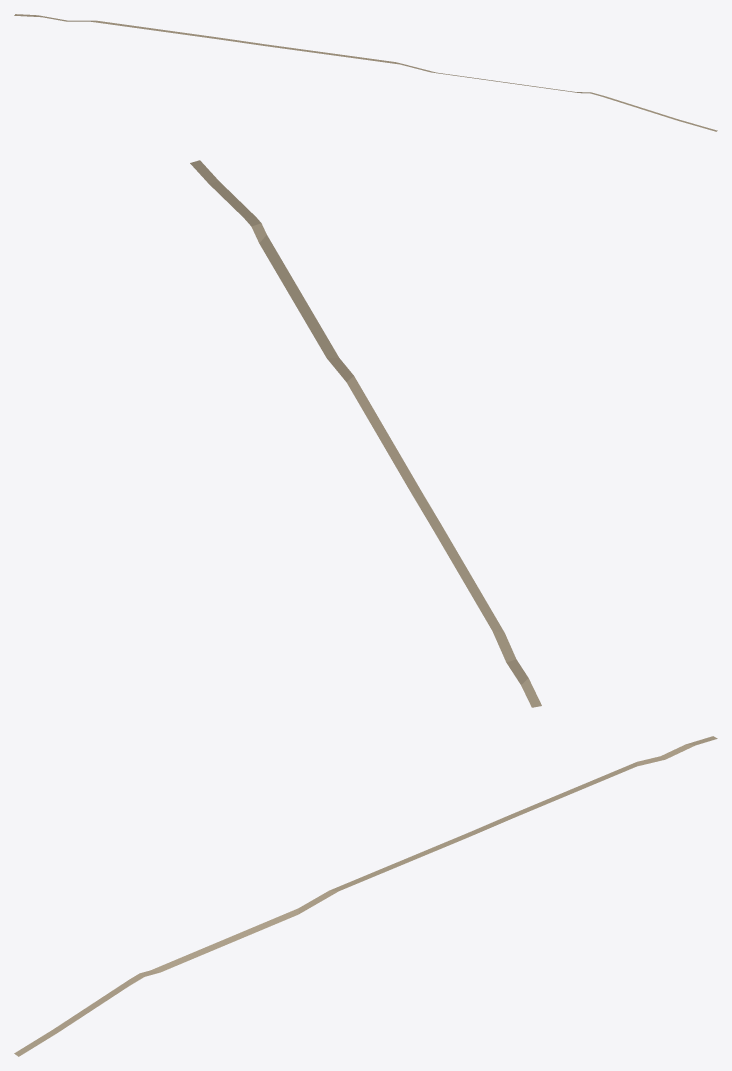
The model's file is farm_-22_-28_track.glb.
3 renders of one model, top to bottom at view 1: azimuth 30°, elevation 25°; view 2: azimuth 150°, elevation 25°; view 3: azimuth 270°, elevation 25°, orthographic. The views are drawn at different scales.
Visible parts, largest first — view 1: geometry_0; view 2: geometry_0; view 3: geometry_0.
Part boxes in pixels (bbox=[...]): geometry_0: bbox=[14, 14, 717, 131]; geometry_0: bbox=[190, 160, 541, 707]; geometry_0: bbox=[14, 736, 717, 1056].
Bounding box in the file's own units: 316 × 22.48 × 333.
